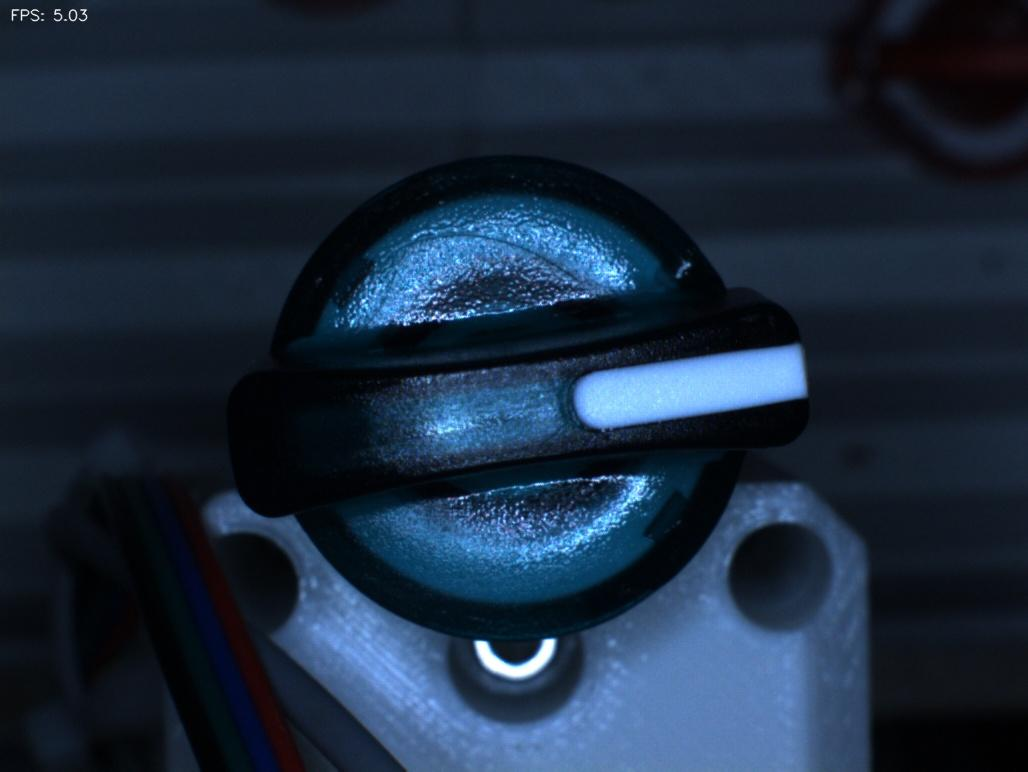Choc: (630, 215, 711, 302)
